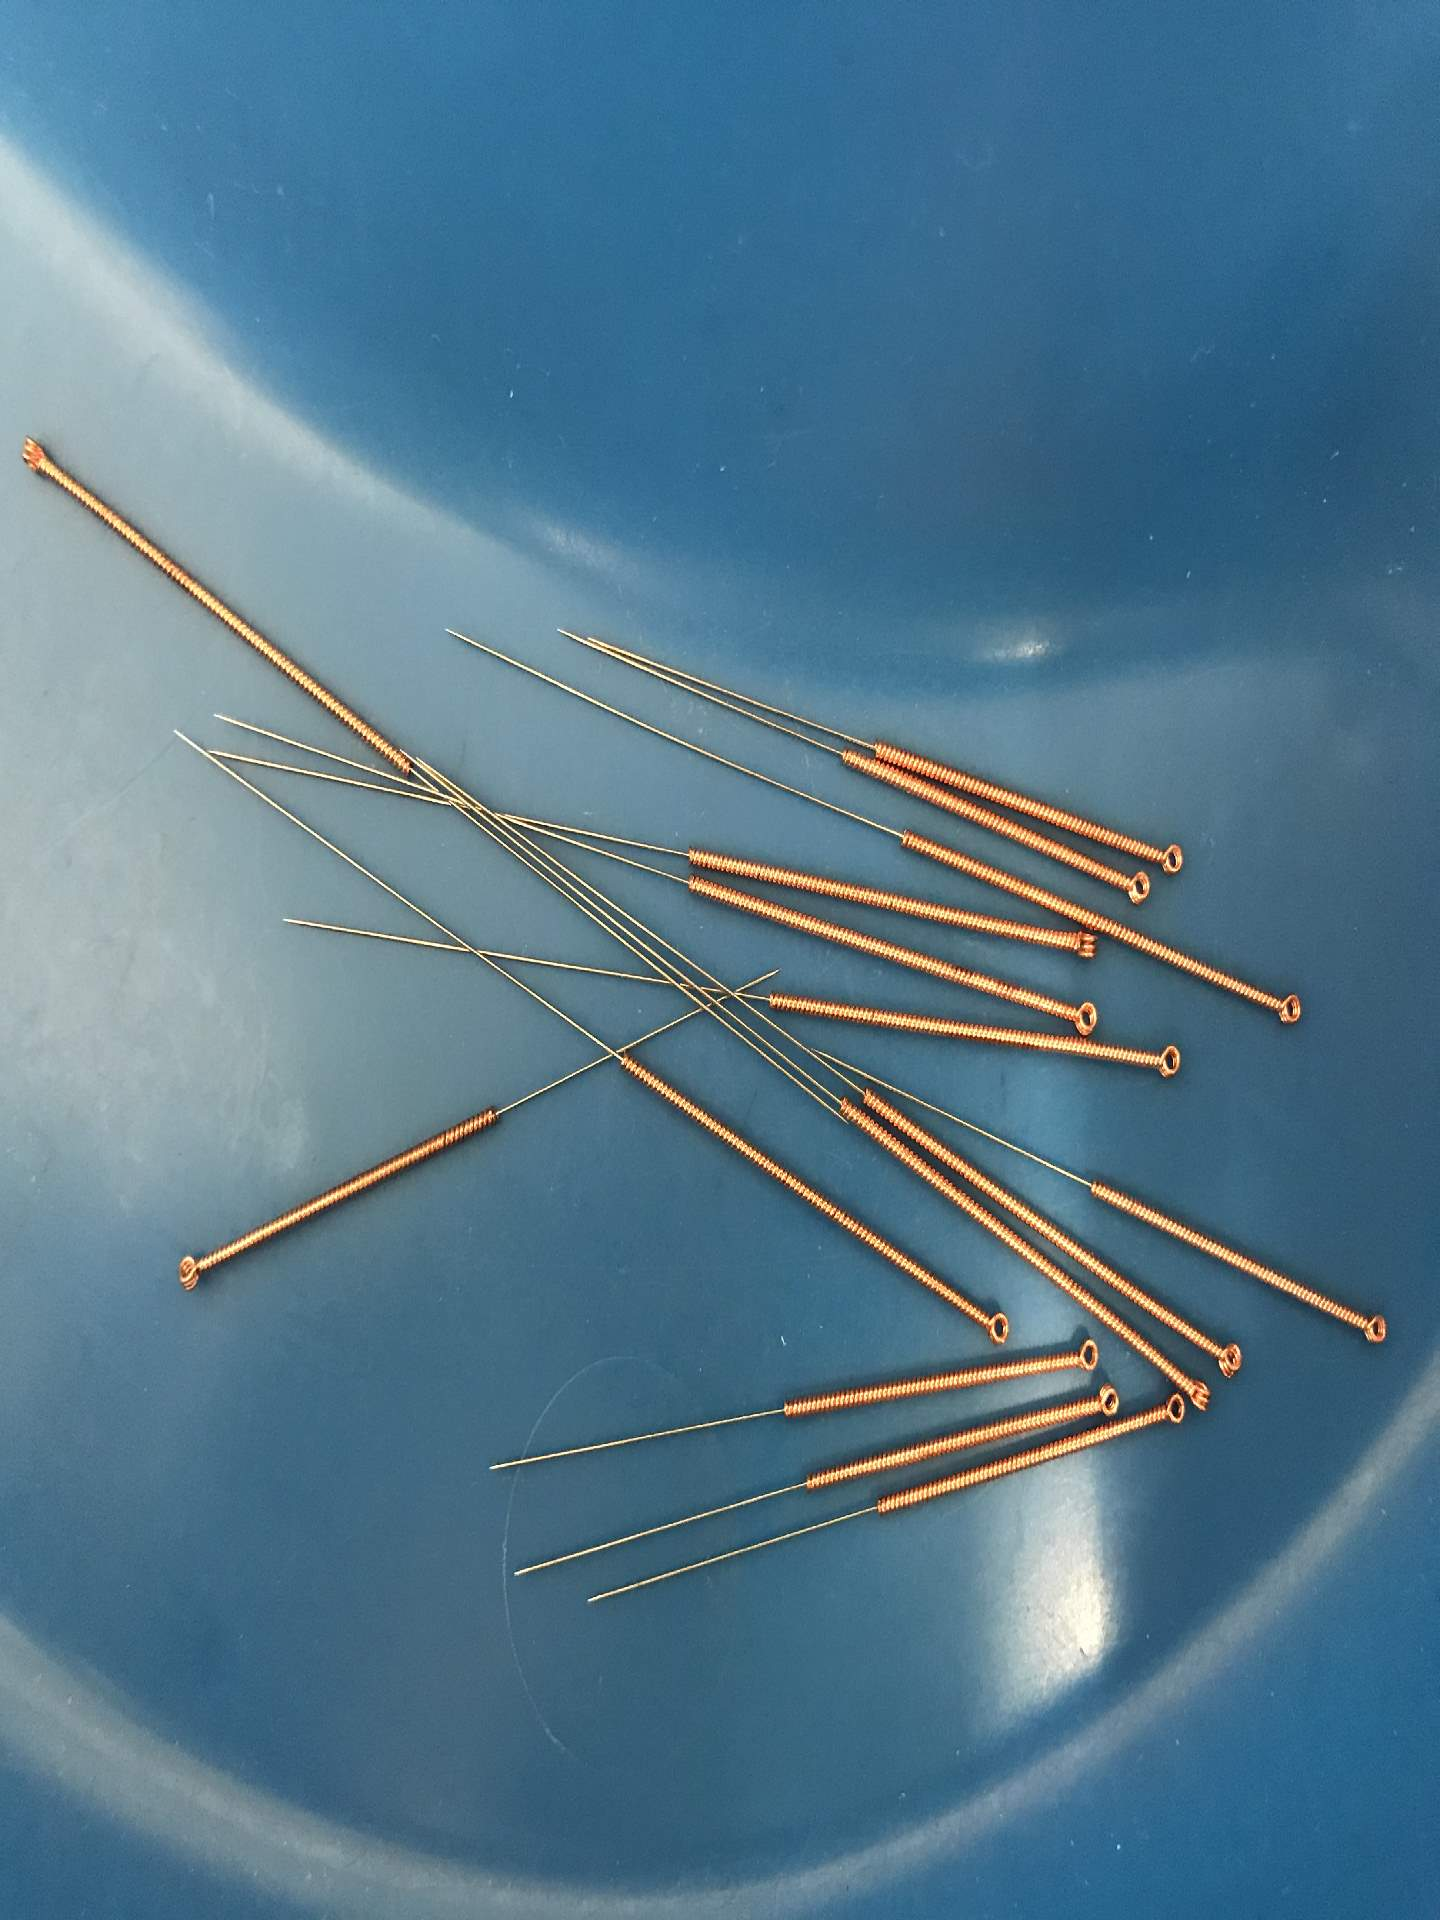needle: (1144, 1031, 1193, 1092), (1348, 1299, 1396, 1355), (169, 1243, 216, 1300), (1203, 1332, 1254, 1383), (1262, 981, 1308, 1037), (12, 426, 59, 479), (970, 1300, 1016, 1353), (1116, 860, 1162, 915), (1060, 987, 1106, 1040), (1063, 1327, 1109, 1380), (1057, 921, 1106, 969), (1150, 831, 1192, 883), (1088, 1379, 1127, 1426), (1184, 1368, 1221, 1417), (1154, 1386, 1190, 1432)
